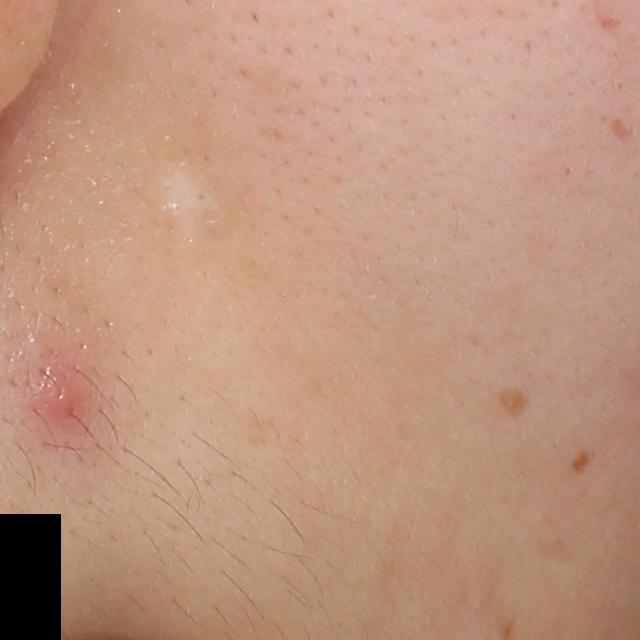atrophic_scar: (604, 115, 640, 149), (601, 16, 624, 32)
nevus: (496, 384, 534, 424), (570, 448, 596, 476)
papule: (16, 354, 102, 440)
